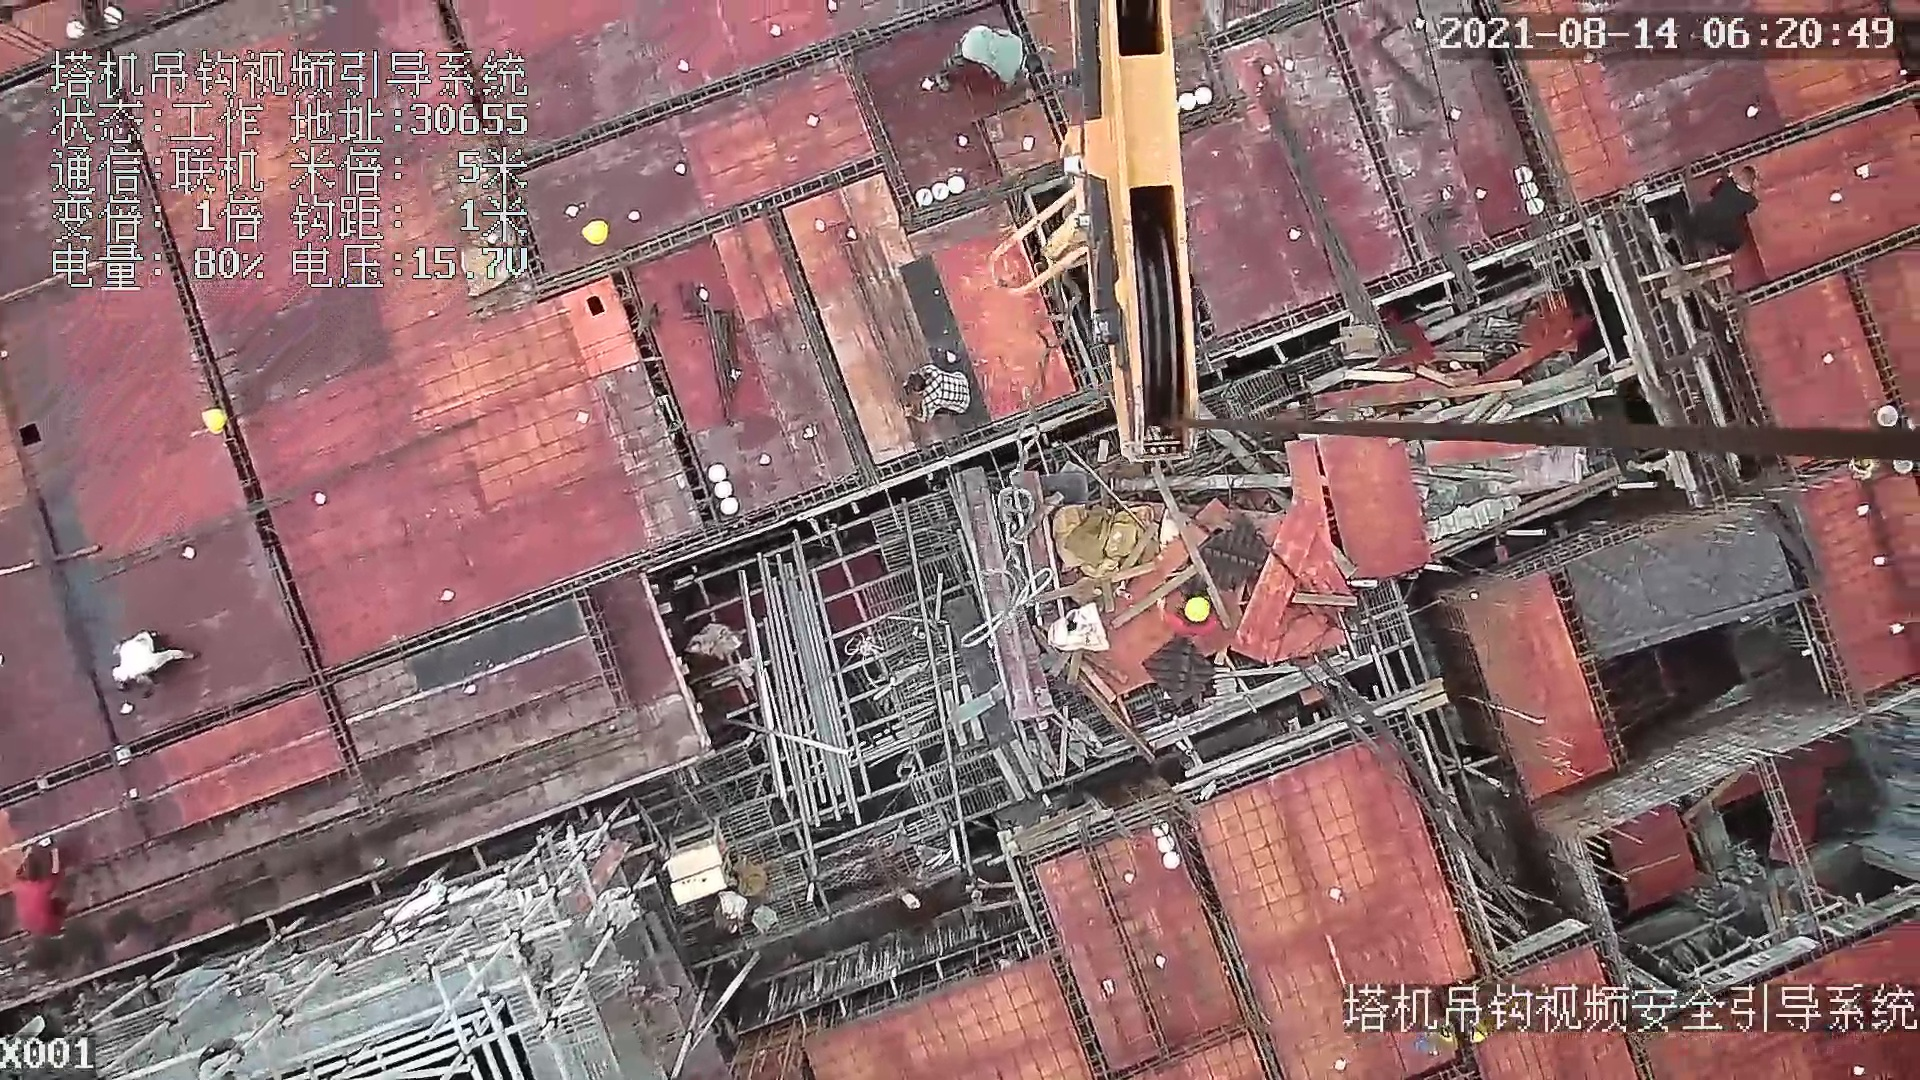helmet: (1184, 597, 1211, 622), (200, 409, 225, 434), (581, 220, 606, 245)
person: (939, 23, 1044, 97), (1685, 166, 1759, 254), (108, 635, 209, 696), (12, 847, 63, 943), (902, 361, 973, 427), (1156, 594, 1222, 643)
